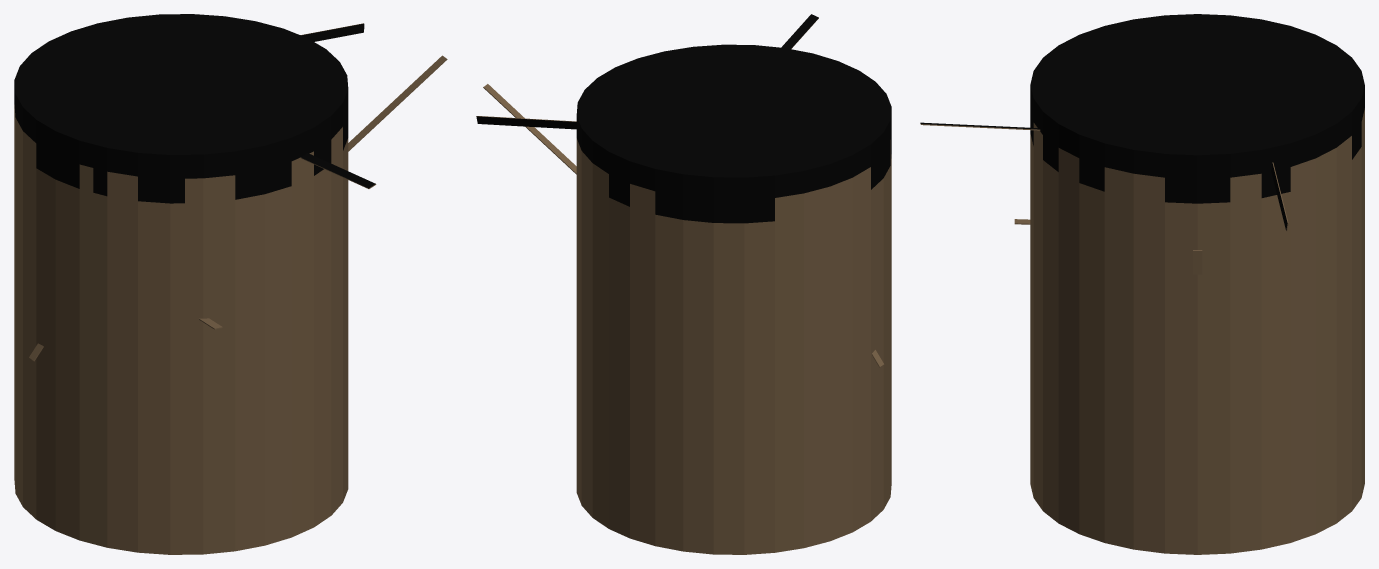
File: BurnedStump.fbx
3 views of the same model, side by side, from view 1: azimuth 30°, elevation 25°; view 2: azimuth 150°, elevation 25°; view 3: azimuth 270°, elevation 25° (orthographic). The views are drawn at different scales.
Parts seen in each view (by area): view 1: Cylinder, Cube, Cube.002, Cube.001; view 2: Cylinder, Cube.001, Cube; view 3: Cylinder.
Boxes of the visible parts, x1,y1,x2,y2 form: Cylinder: (14,14,348,554); Cube: (348,55,447,151); Cube.002: (301,152,376,188); Cube.001: (300,23,364,41); Cylinder: (576,44,891,554); Cube.001: (476,116,576,129); Cube: (483,84,576,174); Cylinder: (1030,14,1364,554).
Bounding box in the file's own units: 84.85 × 77.68 × 78.33.
